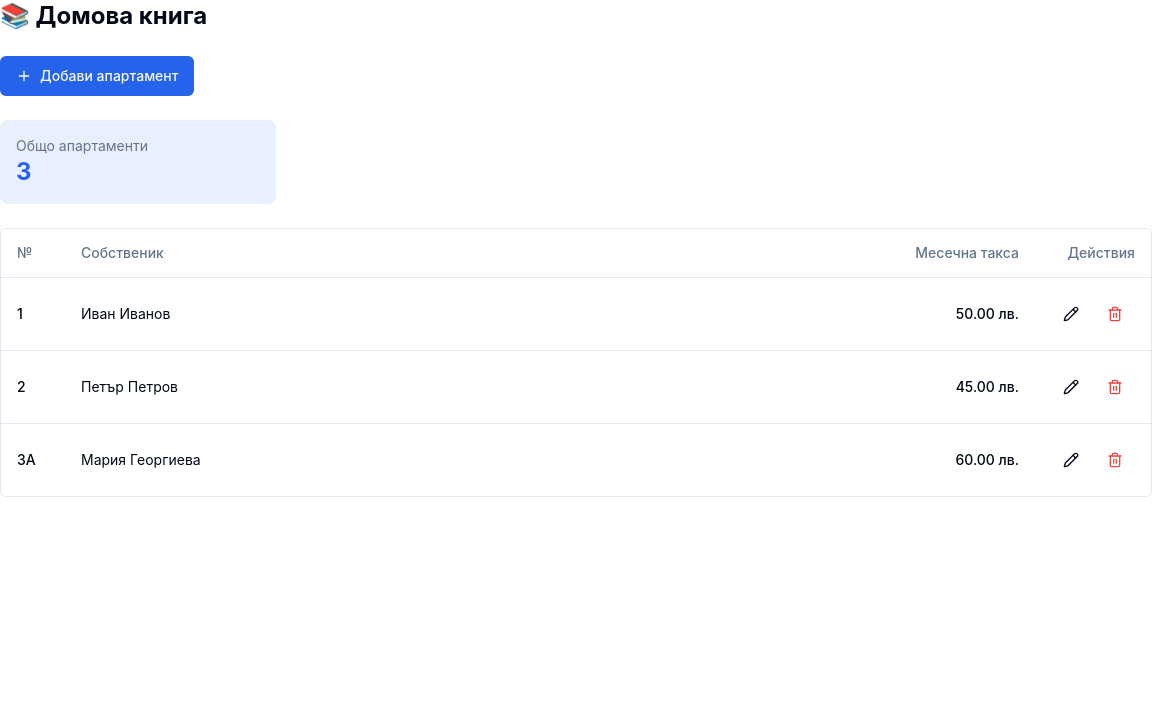
Test case: Apartments Page › Edit Apartment › should open edit dialog when edit button is clicked
Expected: the text "Иван Иванов" is shown, x1=65 y1=277 x2=574 y2=350
Note: Click first edit button
What coordinates should you click on to do the following:
click the button titled "редактирай" in the row of "Иван Иванов"
I would click on:
 (1071, 314)
Its box is x1=1051 y1=294 x2=1091 y2=334.
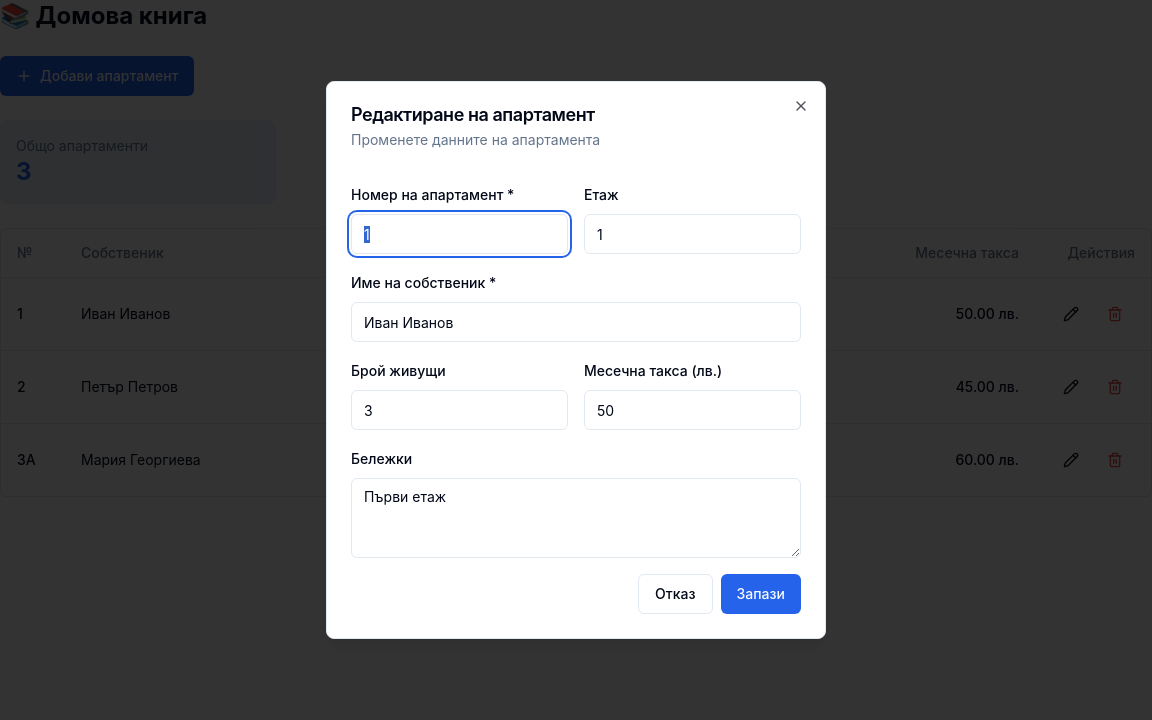
Expected: the heading "Редактиране на апартамент" is shown, x1=351 y1=104 x2=595 y2=125
